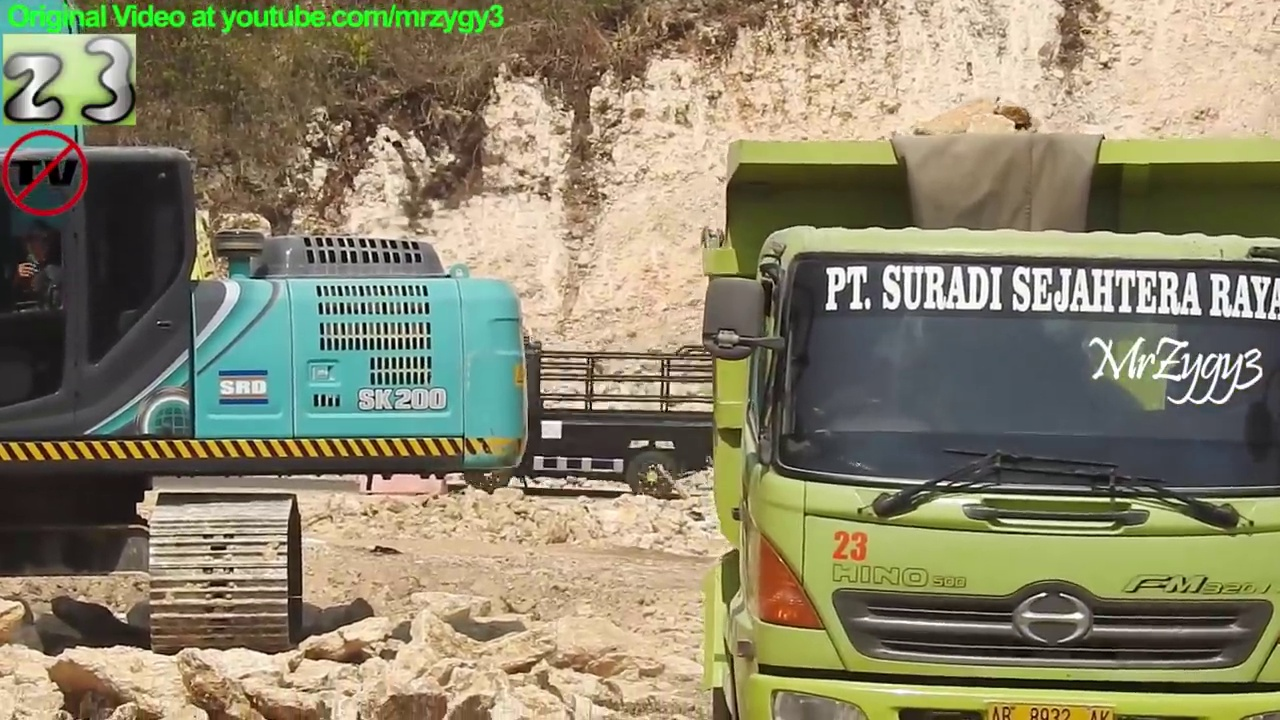excavator: (1, 1, 534, 659)
truck: (693, 126, 1280, 720)
